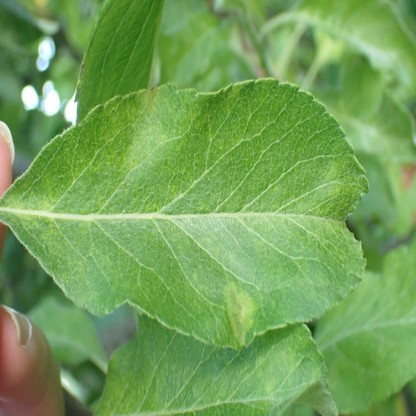scab: (125, 86, 157, 171), (223, 283, 255, 343), (257, 348, 294, 390)
